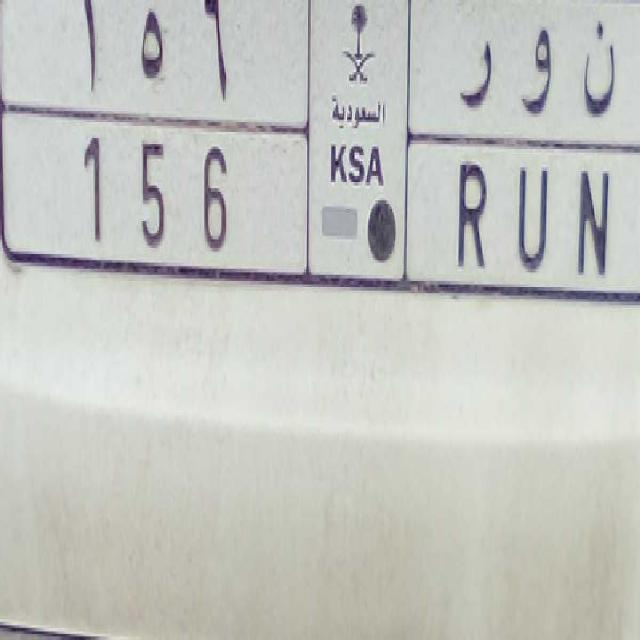license_plate: (39, 100, 630, 326)
